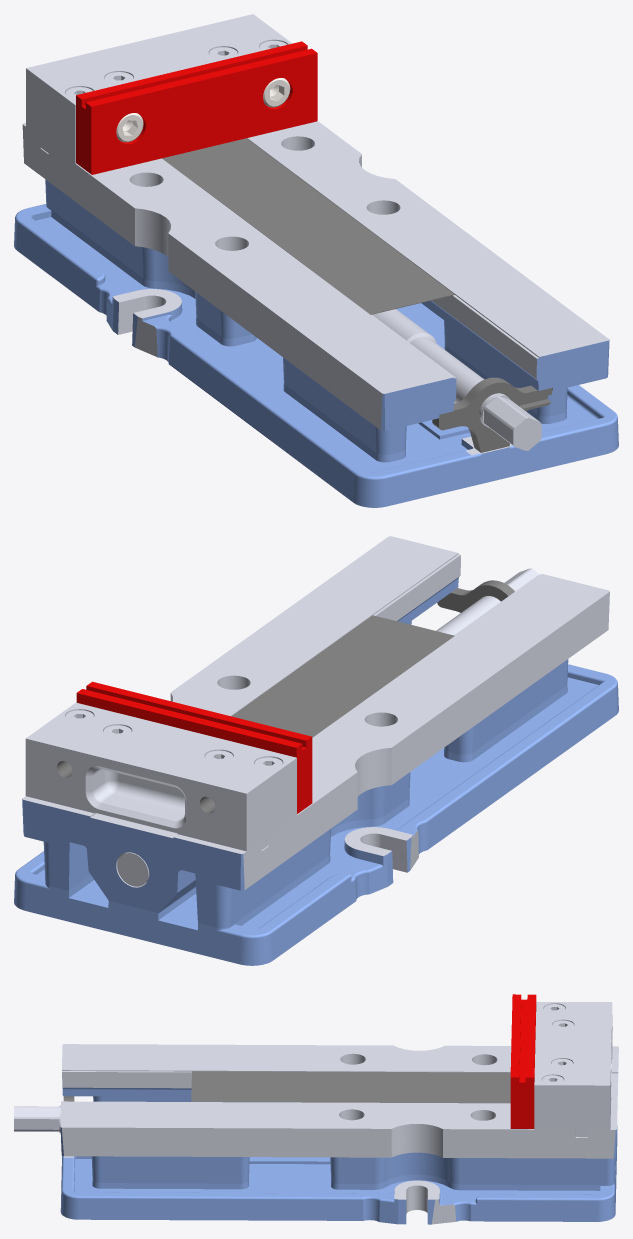
File: ViseStatic.fbx
The picture shows the model from 3 angles, top to bottom: view 1: azimuth 30°, elevation 25°; view 2: azimuth 150°, elevation 25°; view 3: azimuth 270°, elevation 25°; orthographic projection. The views are drawn at different scales.
Parts seen in each view (by area): view 1: Body1; view 2: Body1; view 3: Body1.
Boxes of the visible parts, left/top/right/bottom form: Body1: left=14, top=14, right=618, bottom=507; Body1: left=14, top=536, right=618, bottom=965; Body1: left=14, top=994, right=618, bottom=1224.
Bounding box in the file's own units: 18.81 × 11.71 × 46.71.
